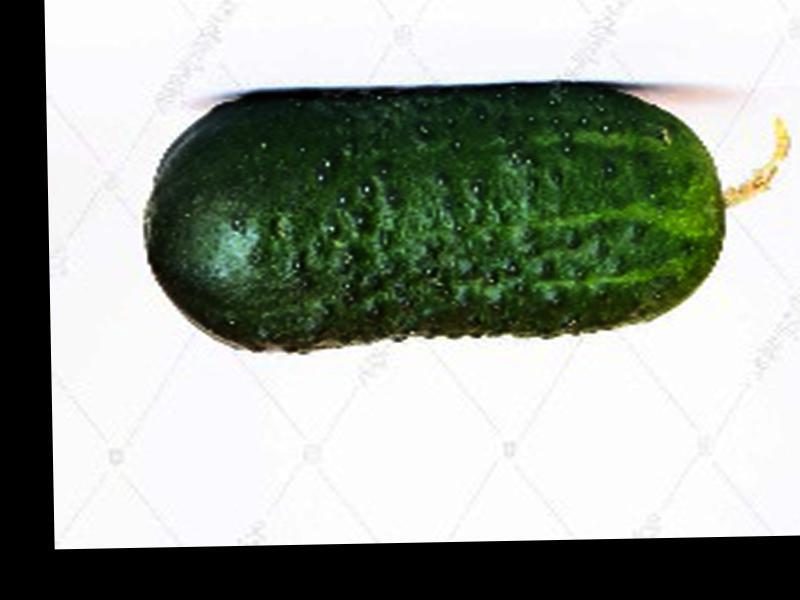Cucumber: (147, 83, 797, 351)
